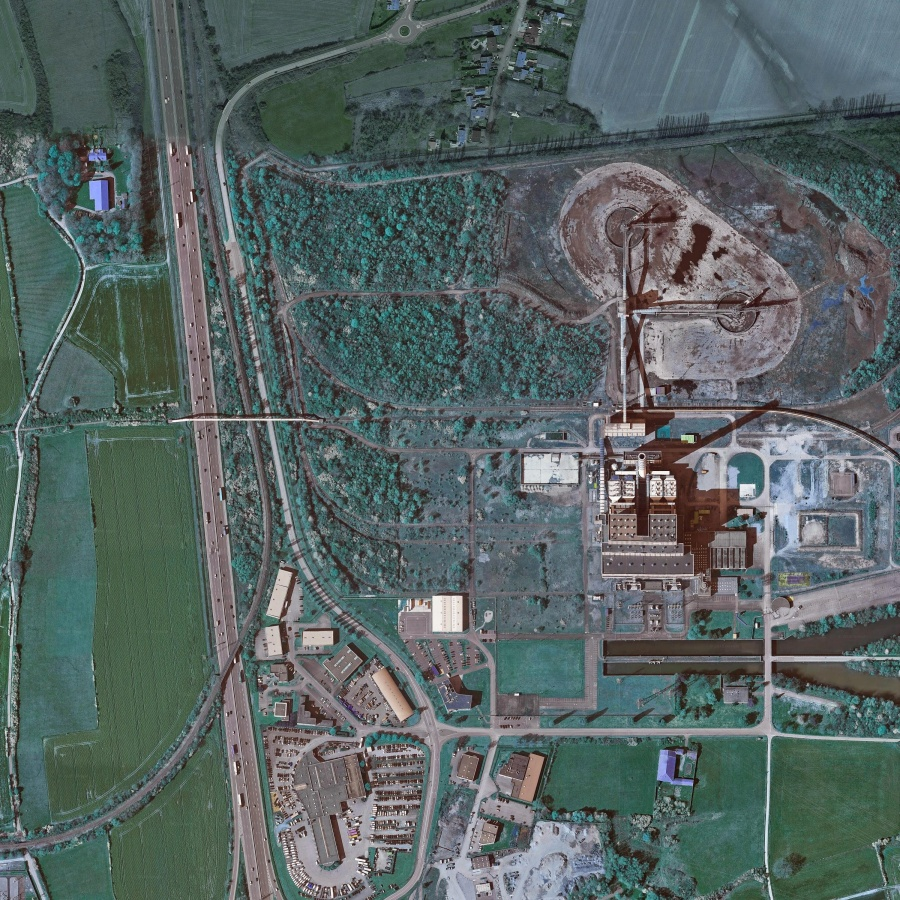PowerPlant: (527, 162, 800, 588)
